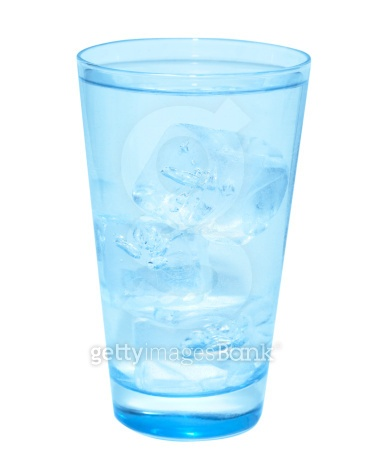glass of water: (72, 42, 312, 431)
